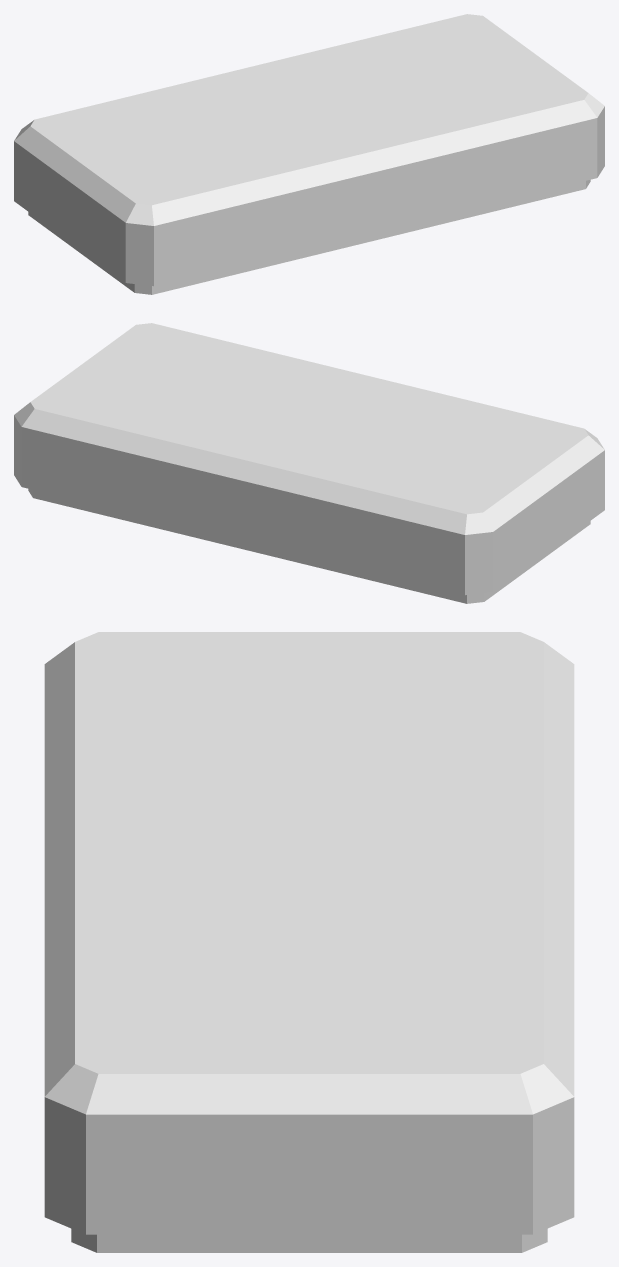
Rendered from Cont_Chest_Lid.fbx.
The picture shows the model from 3 angles, top to bottom: view 1: azimuth 30°, elevation 25°; view 2: azimuth 150°, elevation 25°; view 3: azimuth 270°, elevation 25°; orthographic projection. The views are drawn at different scales.
Visible parts, largest first — view 1: Cont_Chest_Lid; view 2: Cont_Chest_Lid; view 3: Cont_Chest_Lid.
Part boxes in pixels (x1,y1,x2,y2): Cont_Chest_Lid: (14, 14, 604, 294); Cont_Chest_Lid: (14, 323, 604, 603); Cont_Chest_Lid: (44, 632, 574, 1252).
Size of the model in its own units: 1.34 by 0.2371 by 0.6414.
